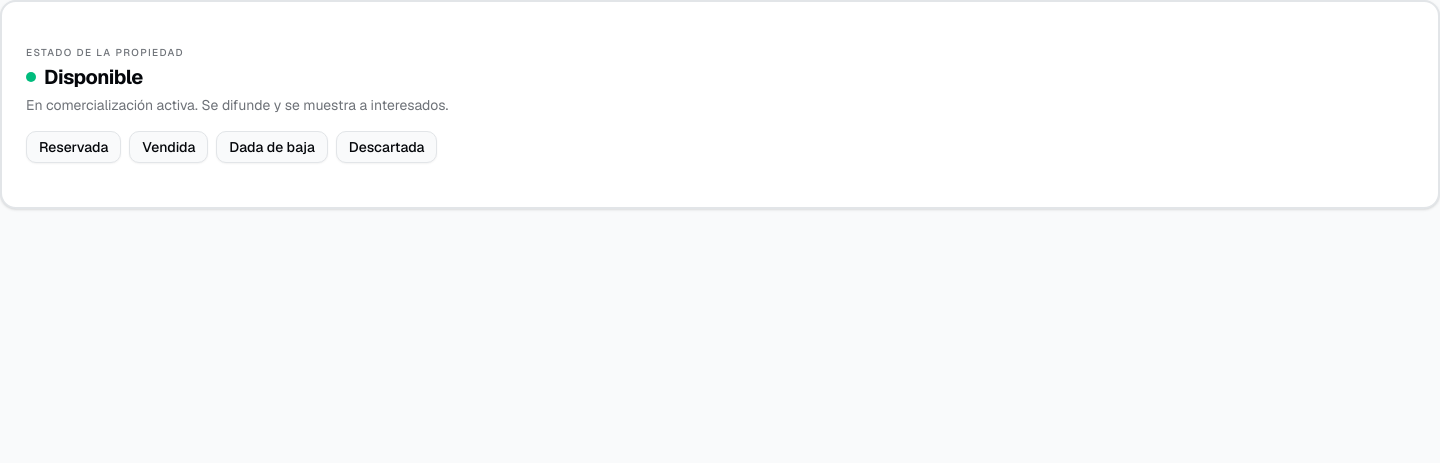
Test: PropertyCommercialStatusCard › no deja confirmar una venta sin precio y explica por qué
The image size is (1440, 463).
Click the button "Vendida". click: (169,147)
box: [129, 131, 208, 163]
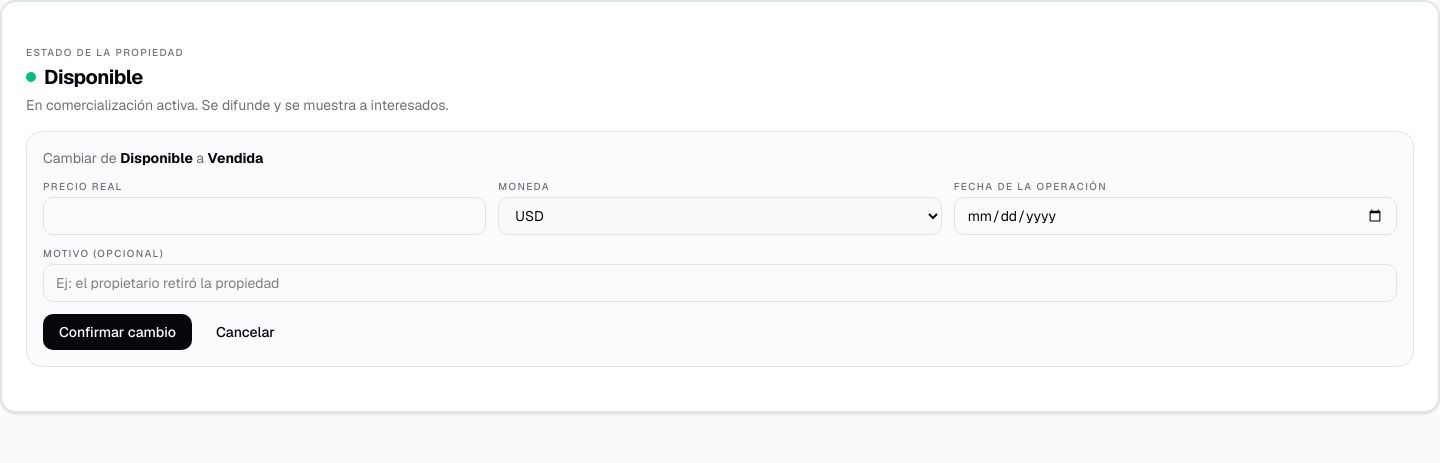
Click the button "Confirmar cambio". click: (117,332)
box: [43, 314, 192, 350]
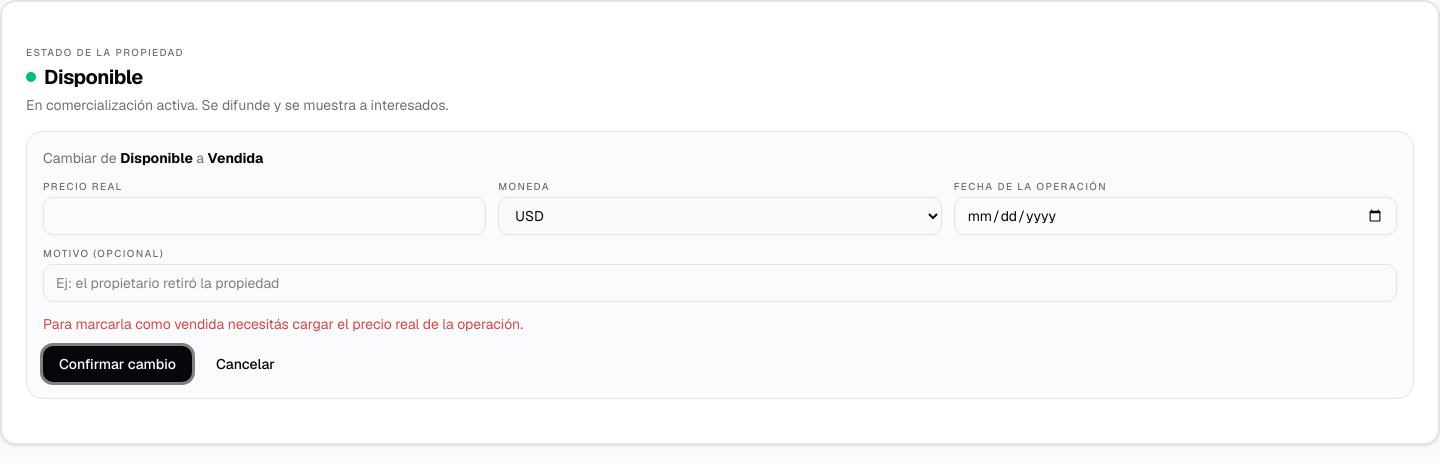
Expected: the text "necesitás cargar el precio real" is shown, [43, 315, 523, 333]
